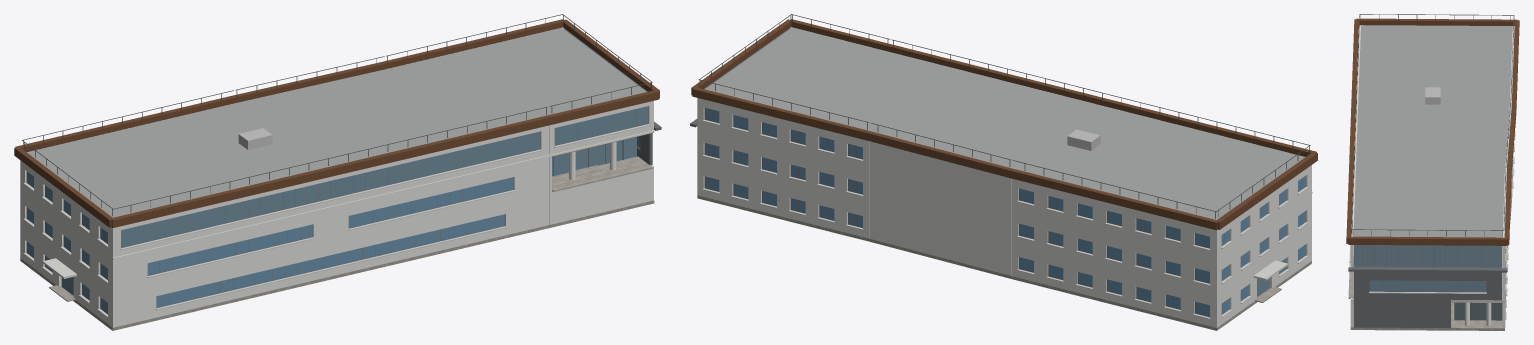
3 renders of one model, left to right at view 1: azimuth 30°, elevation 25°; view 2: azimuth 150°, elevation 25°; view 3: azimuth 270°, elevation 25°, orthographic. The views are drawn at different scales.
Parts seen in each view (by area): view 1: yewon-hall__roof, yewon-hall__white, yewon-hall__brown, yewon-hall__glass, yewon-hall__blueglass, yewon-hall__sill, yewon-hall__stone, yewon-hall__frame, yewon-hall__rail, yewon-hall__band, yewon-hall__darkpanel, yewon-hall__plant; view 2: yewon-hall__white, yewon-hall__roof, yewon-hall__brown, yewon-hall__blueglass, yewon-hall__rail, yewon-hall__sill, yewon-hall__frame, yewon-hall__stone, yewon-hall__plant; view 3: yewon-hall__roof, yewon-hall__darkpanel, yewon-hall__brown, yewon-hall__curtainglass, yewon-hall__white, yewon-hall__glass, yewon-hall__stone, yewon-hall__rail, yewon-hall__lowglass, yewon-hall__sill, yewon-hall__mullion, yewon-hall__plant (+3 smaller).
Part boxes in pixels (x1,y1,x2,y2): yewon-hall__roof: [27, 28, 646, 217]; yewon-hall__white: [20, 27, 653, 327]; yewon-hall__brown: [14, 19, 659, 227]; yewon-hall__glass: [62, 106, 647, 294]; yewon-hall__blueglass: [27, 172, 513, 313]; yewon-hall__sill: [23, 124, 650, 316]; yewon-hall__stone: [20, 156, 654, 330]; yewon-hall__frame: [26, 106, 648, 314]; yewon-hall__rail: [21, 14, 652, 216]; yewon-hall__band: [112, 130, 654, 259]; yewon-hall__darkpanel: [564, 28, 661, 165]; yewon-hall__plant: [238, 128, 272, 149]; yewon-hall__white: [697, 27, 1311, 327]; yewon-hall__roof: [705, 27, 1305, 219]; yewon-hall__brown: [691, 19, 1317, 230]; yewon-hall__blueglass: [705, 108, 1305, 316]; yewon-hall__rail: [698, 14, 1310, 218]; yewon-hall__sill: [702, 120, 1308, 319]; yewon-hall__frame: [704, 108, 1305, 317]; yewon-hall__stone: [697, 195, 1311, 330]; yewon-hall__plant: [1067, 129, 1100, 150]; yewon-hall__roof: [1353, 25, 1512, 237]; yewon-hall__darkpanel: [1348, 266, 1507, 327]; yewon-hall__brown: [1346, 18, 1519, 245]; yewon-hall__curtainglass: [1354, 245, 1501, 267]; yewon-hall__white: [1350, 25, 1514, 328]; yewon-hall__glass: [1370, 280, 1485, 291]; yewon-hall__stone: [1348, 197, 1512, 330]; yewon-hall__rail: [1351, 14, 1514, 236]; yewon-hall__lowglass: [1454, 302, 1502, 320]; yewon-hall__sill: [1349, 120, 1515, 319]; yewon-hall__mullion: [1362, 245, 1493, 267]; yewon-hall__plant: [1425, 87, 1440, 104].
Bounding box in the file's own units: 68.21 × 14.17 × 22.21.
Materials: 19 (1 with a texture image).
